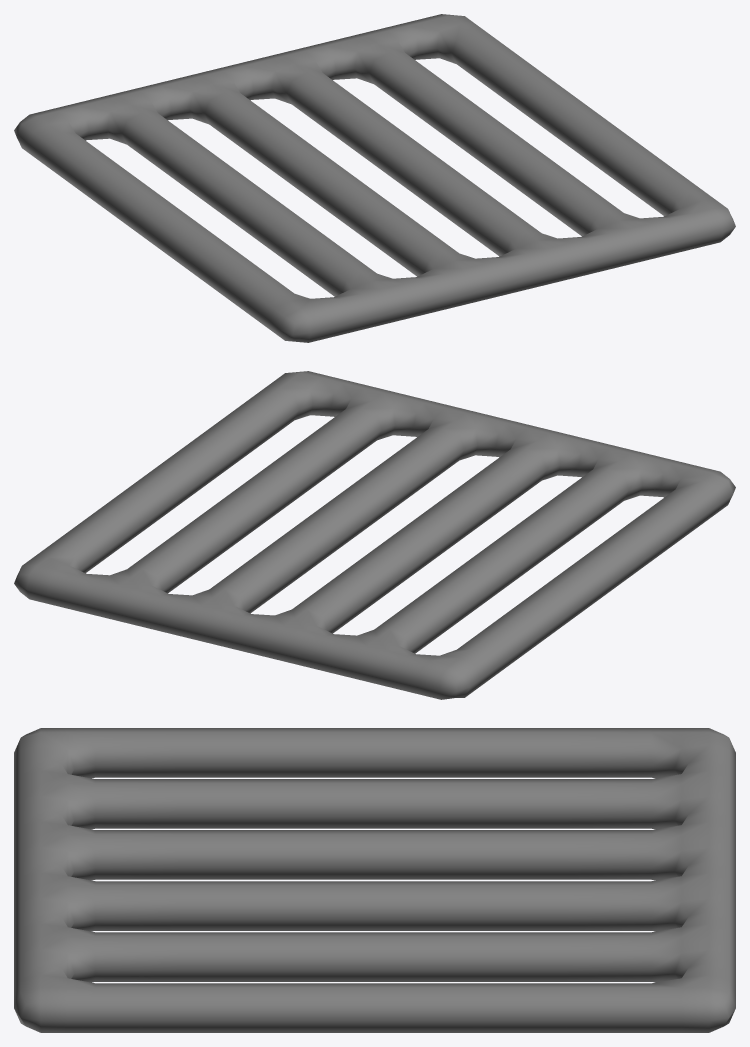
The model's file is submesh_Chiller_Rack.fbx.
3 renders of one model, top to bottom at view 1: azimuth 30°, elevation 25°; view 2: azimuth 150°, elevation 25°; view 3: azimuth 270°, elevation 25°, orthographic. The views are drawn at different scales.
Parts seen in each view (by area): view 1: submesh_Chiller_Rack_L; view 2: submesh_Chiller_Rack_L; view 3: submesh_Chiller_Rack_L.
Part boxes in pixels (x1=…): submesh_Chiller_Rack_L: x1=14, y1=14, x2=735, y2=342; submesh_Chiller_Rack_L: x1=14, y1=371, x2=735, y2=699; submesh_Chiller_Rack_L: x1=14, y1=728, x2=735, y2=1032.
Bounding box in the file's own units: 0.9297 × 0.0628 × 1.01.
